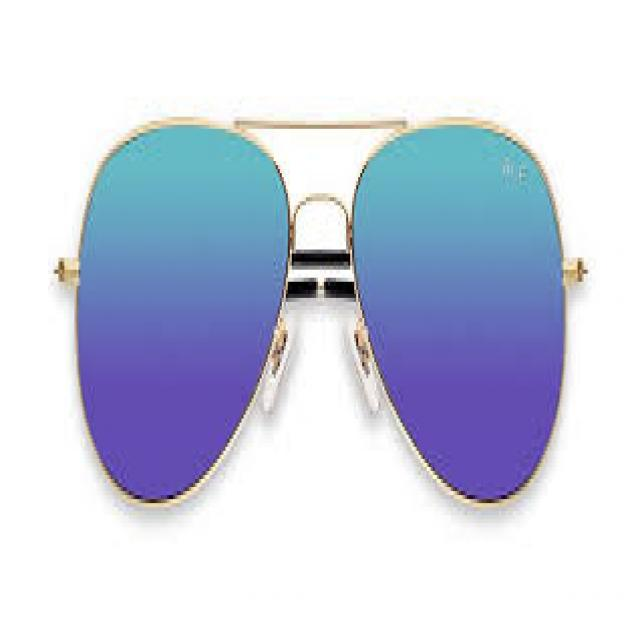suspicious-objects: (41, 80, 585, 524)
